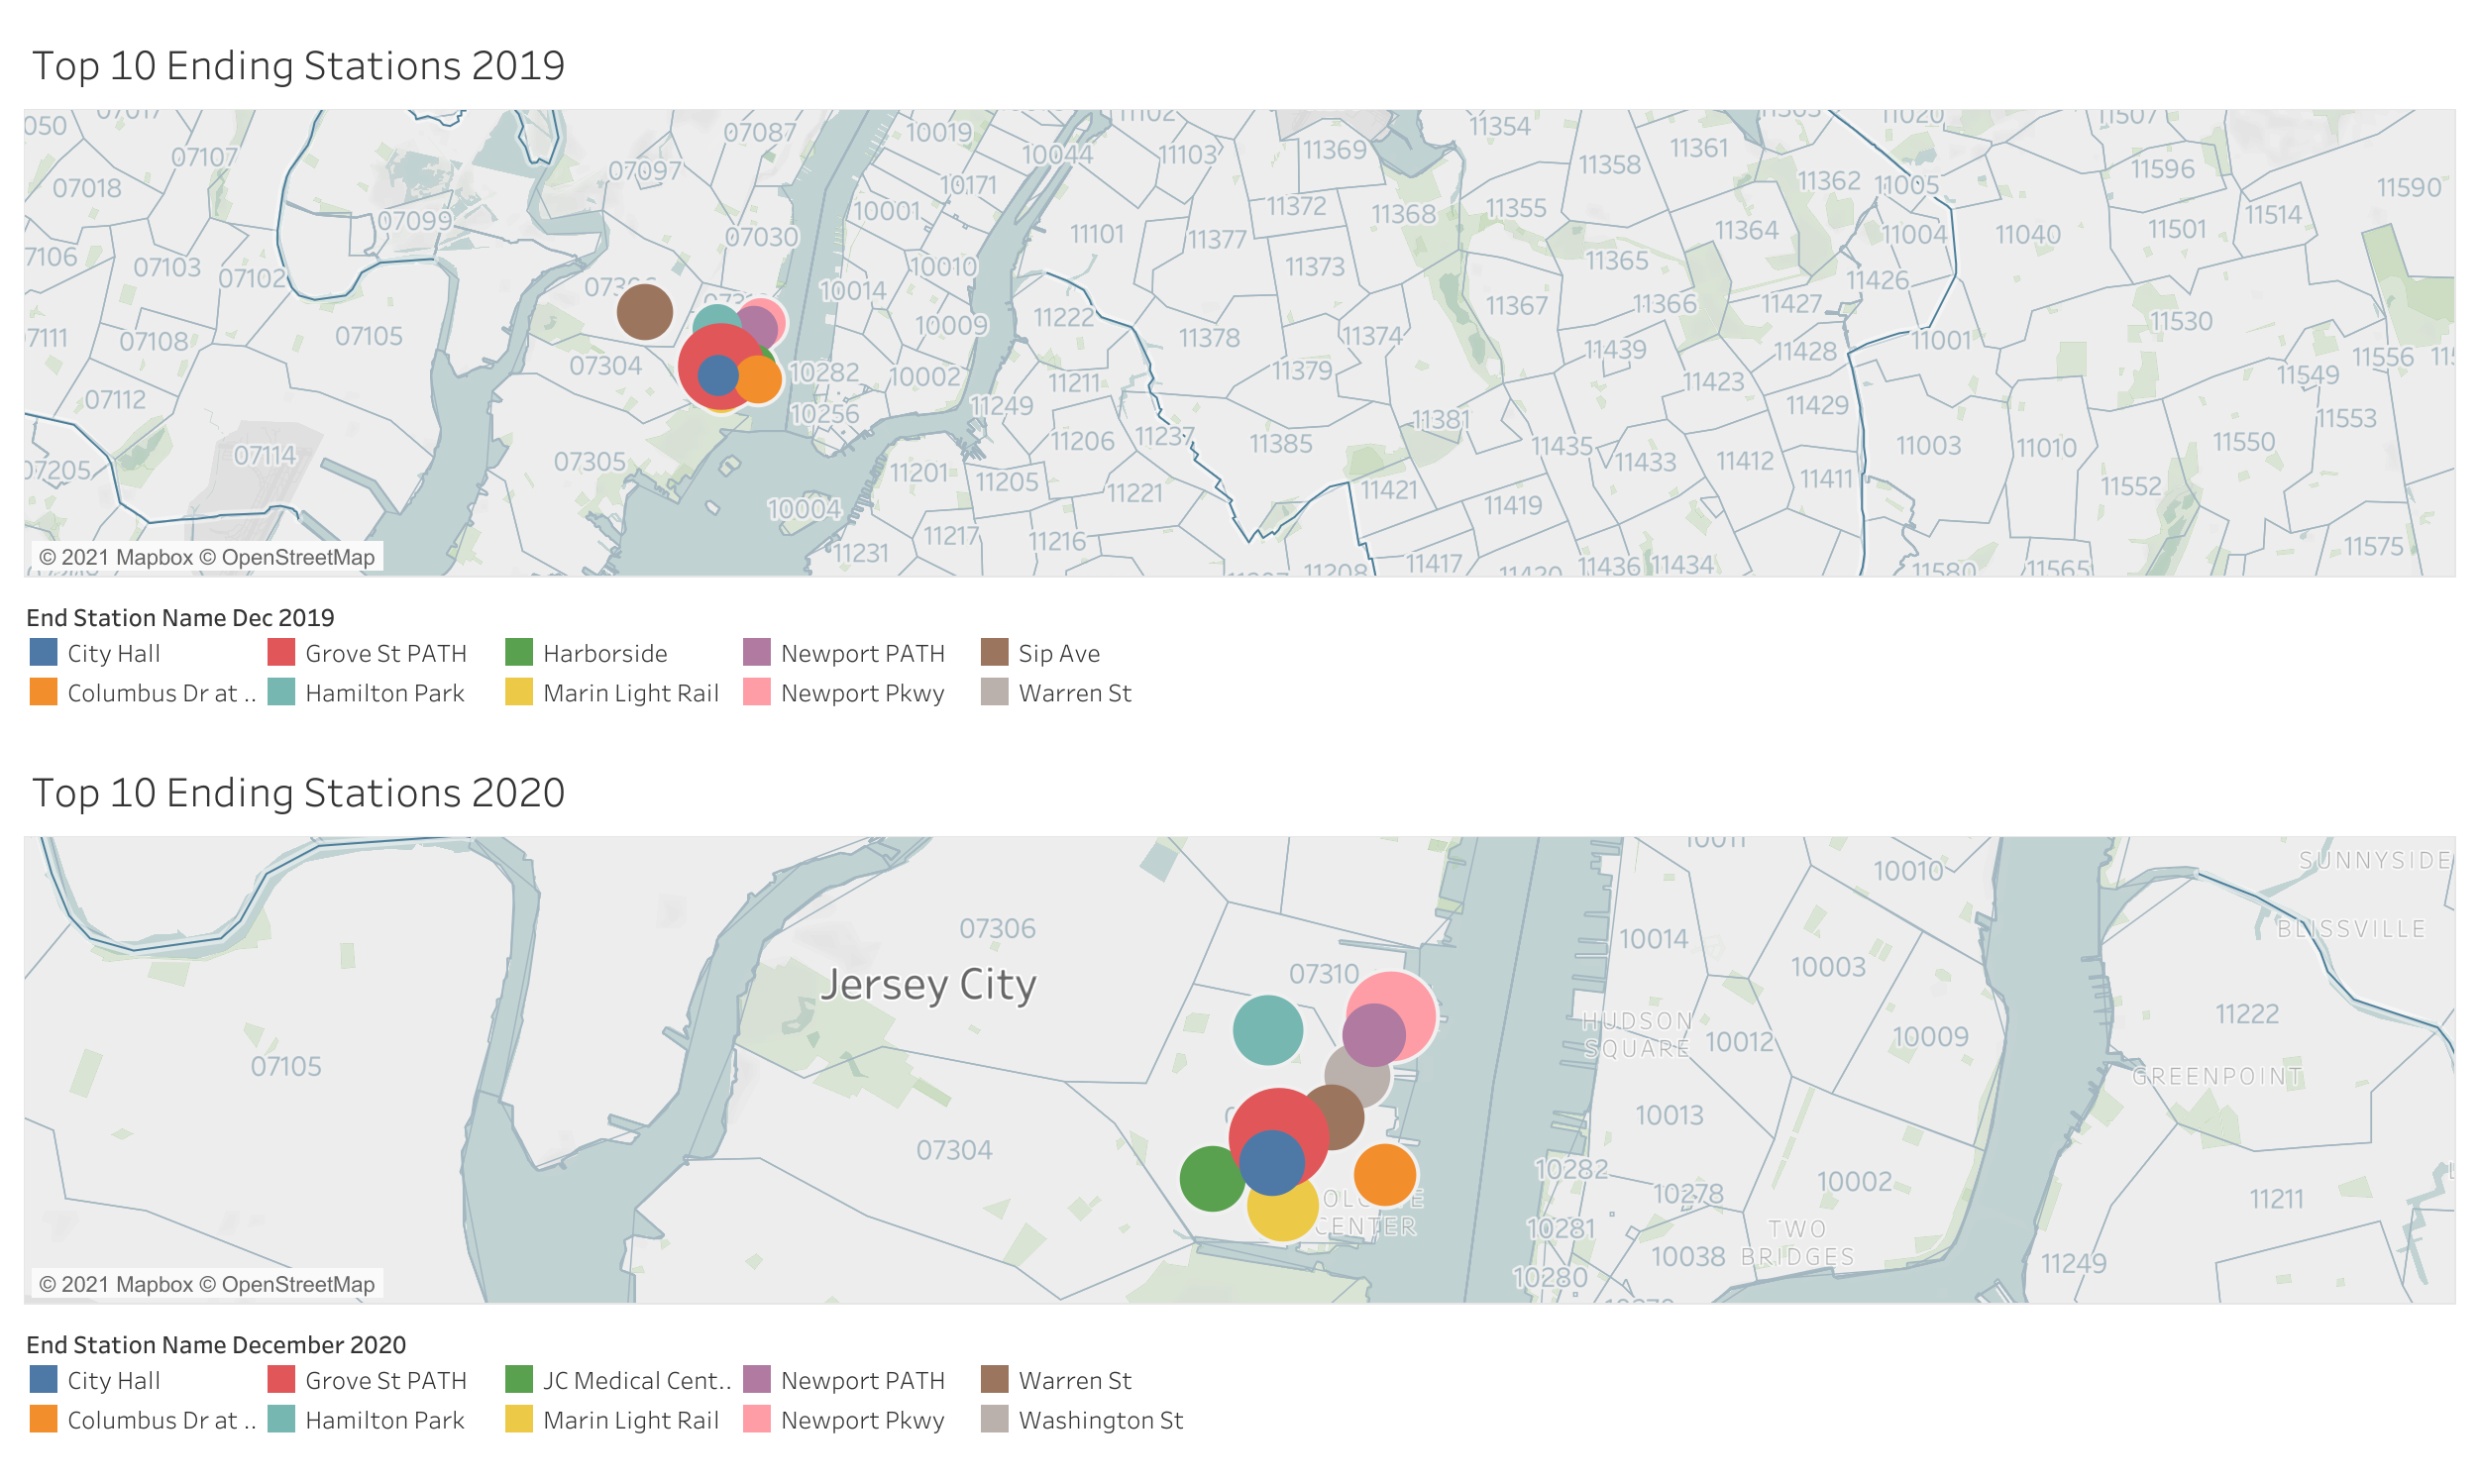

Layout of this report page (visuals, bound fields, positions):
{"tool":"tableau","page":{"name":"Dashboard 4","canvas":[650,860],"ordinal":3},"visuals":[{"type":"worksheet","box":[0,0,650,860]},{"type":"worksheet","param":"horz","box":[8,12.3,634,835.4]},{"type":"worksheet","box":[8,12.3,474,835.4]},{"type":"worksheet","title":"Top 10 End -2019","mark":"Automatic","rows":["end station latitude"],"cols":["end station longitude"],"box":[8,12.3,474,417.7]},{"type":"worksheet","box":[482,12.3,160,835.4]},{"type":"worksheet","param":"vert","box":[482,12.3,160,417.7]},{"type":"worksheet","title":"Top 10 End -2019","mark":"Automatic","rows":["end station latitude"],"cols":["end station longitude"],"param":"[federated.07iu7ii0emu7lh1b0mao20i7xpn5].[none:end station name:nk]","box":[482,12.3,160,368.6]},{"type":"worksheet","title":"Top 10 End 2020","mark":"Automatic","rows":["end station latitude (JC-202012-citibike-tripdata.csv)"],"cols":["end station longitude (JC-202012-citibike-tripdata.csv)"],"box":[8,430,474,417.7]},{"type":"worksheet","param":"vert","box":[482,430,160,417.7]},{"type":"worksheet","title":"Top 10 End 2020","mark":"Automatic","rows":["end station latitude (JC-202012-citibike-tripdata.csv)"],"cols":["end station longitude (JC-202012-citibike-tripdata.csv)"],"param":"[federated.07iu7ii0emu7lh1b0mao20i7xpn5].[none:end station name (JC-202012-citib","box":[482,430,160,417.7]}]}

Visuals, with their boxes on the page's 650x860 design canvas (x1, y1, x2, y2). These are canvas units, not pixel positions in the 2479x1484 screenshot, which may show the page scaled, cropped or inside an application window:
worksheet: rect(0, 0, 650, 860)
worksheet: rect(8, 12, 642, 848)
worksheet: rect(8, 12, 482, 848)
"Top 10 End -2019" worksheet: rect(8, 12, 482, 430)
worksheet: rect(482, 12, 642, 848)
worksheet: rect(482, 12, 642, 430)
"Top 10 End -2019" worksheet: rect(482, 12, 642, 381)
"Top 10 End 2020" worksheet: rect(8, 430, 482, 848)
worksheet: rect(482, 430, 642, 848)
"Top 10 End 2020" worksheet: rect(482, 430, 642, 848)
